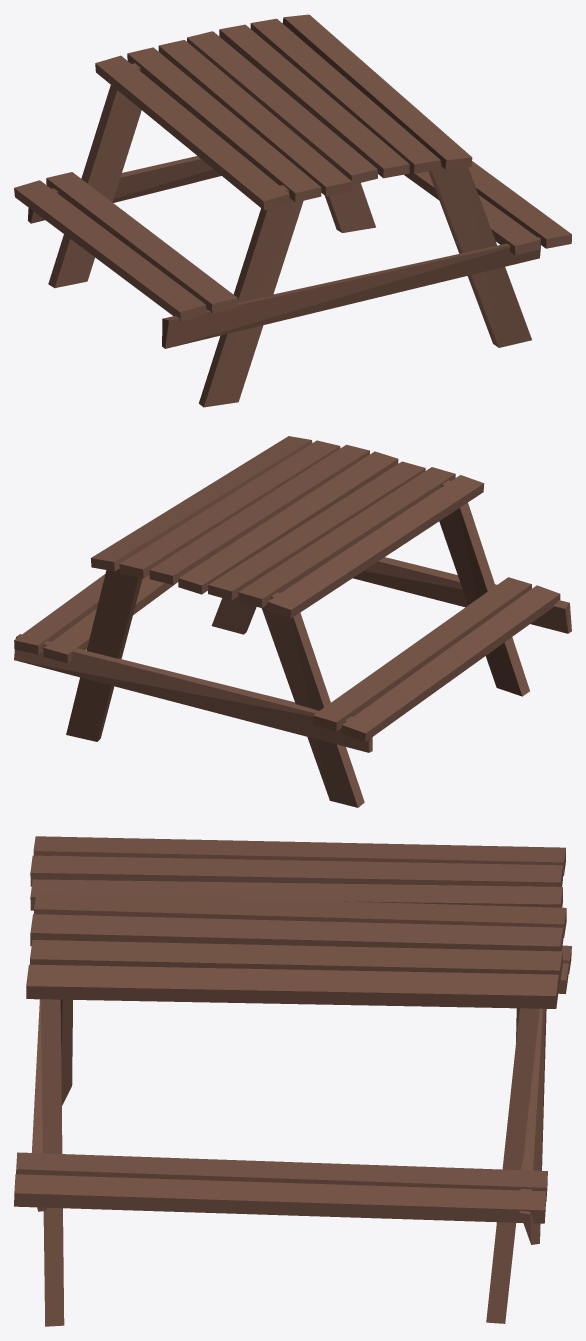
File: ParkBench.fbx
The picture shows the model from 3 angles, top to bottom: view 1: azimuth 30°, elevation 25°; view 2: azimuth 150°, elevation 25°; view 3: azimuth 270°, elevation 25°; orthographic projection. The views are drawn at different scales.
Visible parts, largest first — view 1: group916172726, group1671591197, group2093255684, group1812349122, group559476899, group1592824771, group677251093, group1053393204, group406148729, group398025497, group661948816, group1255249708 (+5 smaller); view 2: group395418295, group559476899, group2093255684, group398025497, group1406506203, group1592824771, group406148729, group1053393204, group677251093, group626986421, group661948816, group1255249708 (+5 smaller); view 3: group1255249708, group696886431, group1053393204, group661948816, group1592824771, group1822838953, group406148729, group2093255684, group677251093, group1812349122, group626986421, group395418295 (+2 smaller).
Part boxes in pixels (box(x1,y1,x2,y2)): group916172726: box(162, 236, 541, 348); group1671591197: box(199, 185, 303, 407); group2093255684: box(95, 55, 289, 210); group1812349122: box(428, 163, 531, 347); group559476899: box(14, 180, 206, 321); group1592824771: box(127, 47, 321, 202); group677251093: box(158, 40, 351, 196); group1053393204: box(219, 24, 409, 178); group406148729: box(187, 31, 377, 184); group398025497: box(46, 172, 238, 313); group661948816: box(250, 18, 440, 173); group1255249708: box(282, 14, 472, 169); group395418295: box(14, 634, 372, 752); group559476899: box(341, 585, 560, 741); group2093255684: box(267, 475, 484, 618); group398025497: box(313, 577, 531, 731); group1406506203: box(262, 592, 364, 807); group1592824771: box(238, 467, 455, 607); group406148729: box(178, 451, 398, 594); group1053393204: box(149, 444, 369, 584); group677251093: box(208, 461, 425, 600); group626986421: box(66, 569, 142, 741); group661948816: box(119, 440, 340, 578); group1255249708: box(90, 436, 312, 571); group1255249708: box(26, 964, 558, 1008); group696886431: box(14, 1174, 546, 1223); group1053393204: box(30, 914, 563, 951); group661948816: box(30, 940, 562, 983); group1592824771: box(30, 855, 562, 886); group1822838953: box(16, 1152, 547, 1201); group406148729: box(34, 892, 566, 937); group2093255684: box(33, 836, 565, 876); group677251093: box(30, 879, 562, 910); group1812349122: box(40, 999, 64, 1326); group626986421: box(486, 1008, 539, 1323); group395418295: box(519, 1008, 546, 1244).
Bounding box in the file's own units: 177 × 88.99 × 146.
